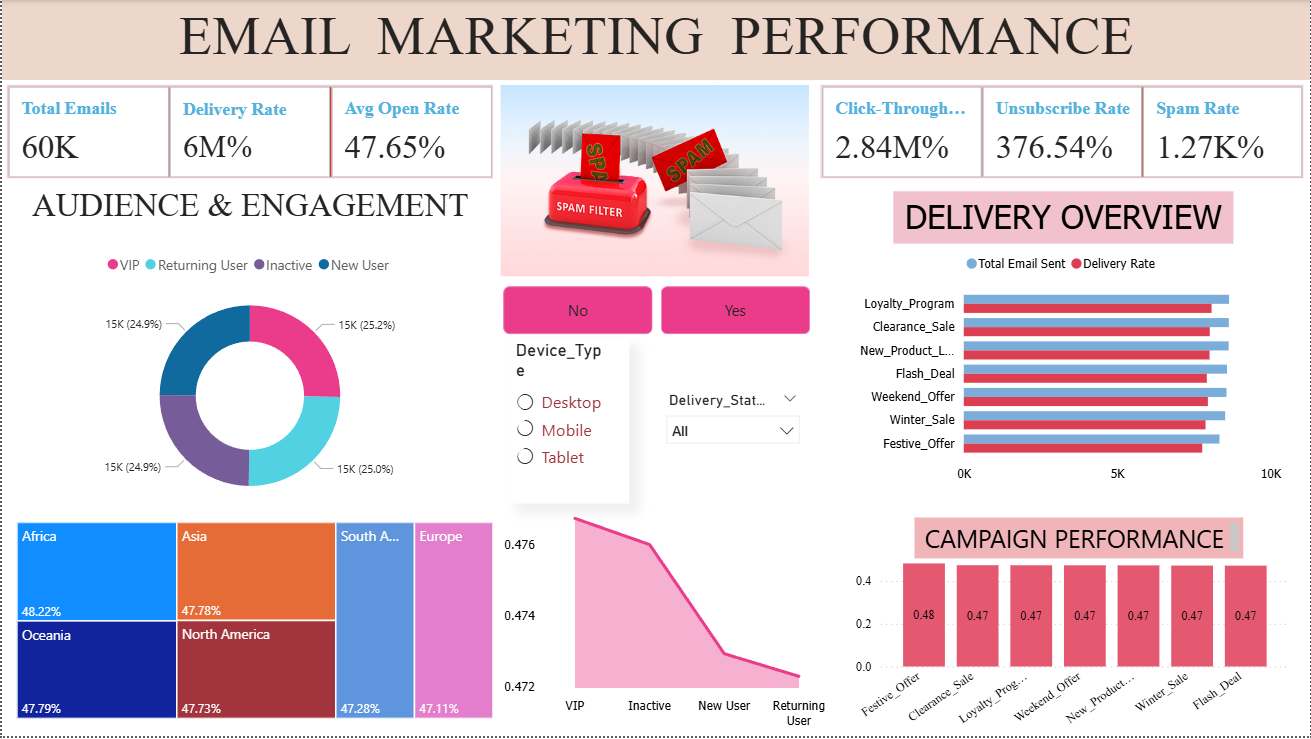

This screenshot's page, from the dashboard's own definition file:
{"tool":"powerbi","page":{"name":"Dashboard","canvas":[1280,720],"ordinal":5},"visuals":[{"type":"textbox","box":[0,0,1280.3,78.3],"z":0},{"type":"image","box":[418.2,78.3,441.4,196.9],"z":1000},{"type":"cardVisual","fields":{"Data":["Spam Detection Email.Total Email Sent","Spam Detection Email.Delivery Rate","Spam Detection Email.Average Open Rate"]},"box":[0,78.3,485.5,101.5],"z":2000},{"type":"cardVisual","fields":{"Data":["Sum(Spam Detection Email.Click_Through_Rate)","Spam Detection Email.Unsubscribe Rate","Spam Detection Email.Spam Rate"]},"box":[796.1,78.3,484.2,101.5],"z":3000},{"type":"clusteredColumnChart","fields":{"Category":["Spam Detection Email.Campaign_Name"],"Y":["Spam Detection Email.Average Click Through Rate"]},"box":[821.7,516,442.7,204.2],"z":4000},{"type":"textbox","box":[892.7,506.3,321.6,40.4],"z":5000},{"type":"clusteredBarChart","fields":{"Category":["Spam Detection Email.Campaign_Name"],"Y":["Spam Detection Email.Total Email Sent","Spam Detection Email.Delivery Rate"]},"box":[818.1,238.5,439,242.1],"z":6000},{"type":"textbox","box":[871.9,187.1,332.6,51.4],"z":7000},{"type":"donutChart","fields":{"Category":["Spam Detection Email.Customer_Segment"],"Y":["Spam Detection Email.Total Email Sent"]},"box":[0,238.5,485.5,267.8],"z":8000},{"type":"stackedAreaChart","fields":{"Category":["Spam Detection Email.Customer_Segment"],"Y":["Spam Detection Email.Average Click Through Rate"]},"box":[485.5,484.2,332.6,236],"z":9000},{"type":"treemap","fields":{"Group":["Spam Detection Email.Region"],"Values":["Spam Detection Email.Average Open Rate"]},"box":[9.8,506.3,475.7,201.8],"z":10000},{"type":"textbox","box":[0,177.3,485.5,61.1],"z":11000},{"type":"advancedSlicerVisual","fields":{"Values":["Spam Detection Email.Spam_Flag"]},"box":[485.5,275.1,310.6,57.5],"z":12000},{"type":"listSlicer","fields":{"Values":["Spam Detection Email.Device_Type"]},"box":[497.7,332.6,116.2,160.2],"z":13000},{"type":"slicer","fields":{"Values":["Spam Detection Email.Delivery_Status"]},"box":[639.5,377.9,150.4,69.7],"z":14000}]}

Visuals, with their boxes in screenshot pixels (x1, y1, x2, y2), scaled from the page's 1280x720 canvas onto the 1311x739 screenshot:
textbox: [x1=0, y1=0, x2=1310, y2=80]
image: [x1=428, y1=80, x2=880, y2=282]
cardVisual - Spam Detection Email.Total Email Sent x Spam Detection Email.Delivery Rate: [x1=0, y1=80, x2=497, y2=185]
cardVisual - Sum(Spam Detection Email.Click_Through_Rate) x Spam Detection Email.Unsubscribe Rate: [x1=815, y1=80, x2=1310, y2=185]
clusteredColumnChart - Spam Detection Email.Campaign_Name x Spam Detection Email.Average Click Through Rate: [x1=842, y1=530, x2=1295, y2=738]
textbox: [x1=914, y1=520, x2=1244, y2=561]
clusteredBarChart - Spam Detection Email.Campaign_Name x Spam Detection Email.Total Email Sent: [x1=838, y1=245, x2=1288, y2=493]
textbox: [x1=893, y1=192, x2=1234, y2=245]
donutChart - Spam Detection Email.Customer_Segment x Spam Detection Email.Total Email Sent: [x1=0, y1=245, x2=497, y2=520]
stackedAreaChart - Spam Detection Email.Customer_Segment x Spam Detection Email.Average Click Through Rate: [x1=497, y1=497, x2=838, y2=738]
treemap - Spam Detection Email.Region x Spam Detection Email.Average Open Rate: [x1=10, y1=520, x2=497, y2=727]
textbox: [x1=0, y1=182, x2=497, y2=245]
advancedSlicerVisual - Spam Detection Email.Spam_Flag: [x1=497, y1=282, x2=815, y2=341]
listSlicer - Spam Detection Email.Device_Type: [x1=510, y1=341, x2=629, y2=506]
slicer - Spam Detection Email.Delivery_Status: [x1=655, y1=388, x2=809, y2=459]
